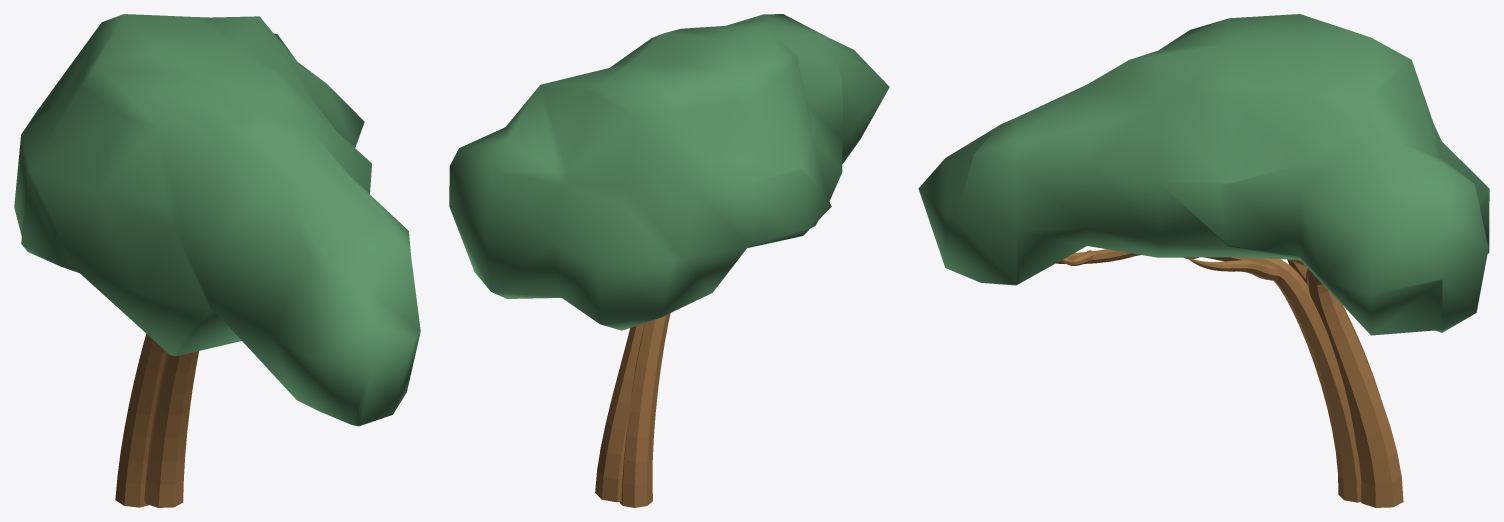
The model's file is arbre2_v1.fbx.
3 renders of one model, left to right at view 1: azimuth 30°, elevation 25°; view 2: azimuth 150°, elevation 25°; view 3: azimuth 270°, elevation 25°, orthographic. The views are drawn at different scales.
Visible parts, largest first — view 1: Mball, BezierCurve.004; view 2: Mball, BezierCurve.004; view 3: Mball, BezierCurve.004.
Part boxes in pixels (x1=…): Mball: x1=14, y1=14, x2=420, y2=426; BezierCurve.004: x1=115, y1=334, x2=199, y2=507; Mball: x1=449, y1=14, x2=889, y2=330; BezierCurve.004: x1=595, y1=313, x2=670, y2=507; Mball: x1=918, y1=14, x2=1489, y2=335; BezierCurve.004: x1=1056, y1=249, x2=1403, y2=507.
Bounding box in the file's own units: 1419 × 1752 × 2021.
